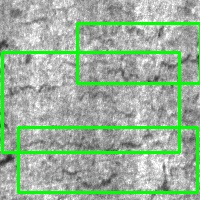crazing: (2, 52, 179, 152), (18, 127, 197, 192), (77, 23, 200, 83)
